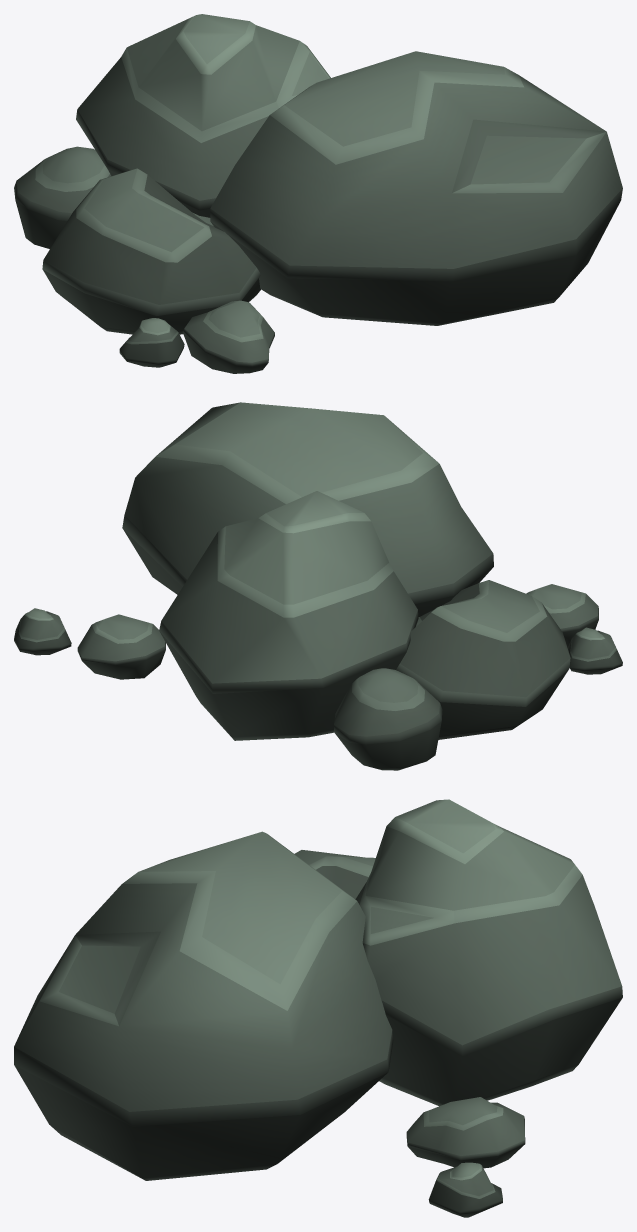
File: arangement_stone_S.fbx
3 renders of one model, top to bottom at view 1: azimuth 30°, elevation 25°; view 2: azimuth 150°, elevation 25°; view 3: azimuth 270°, elevation 25°, orthographic. The views are drawn at different scales.
Parts seen in each view (by area): view 1: arangement_stone_S; view 2: arangement_stone_S; view 3: arangement_stone_S.
Part boxes in pixels (<box>): arangement_stone_S: <box>14,14,622,373</box>; arangement_stone_S: <box>14,402,622,770</box>; arangement_stone_S: <box>14,799,622,1217</box>.
Size of the model in its own units: 297 by 136 by 269.
Materials: 1 (1 with a texture image).
